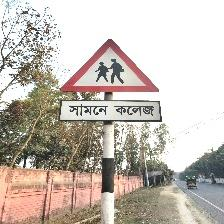College-in-front: (54, 32, 178, 133)
